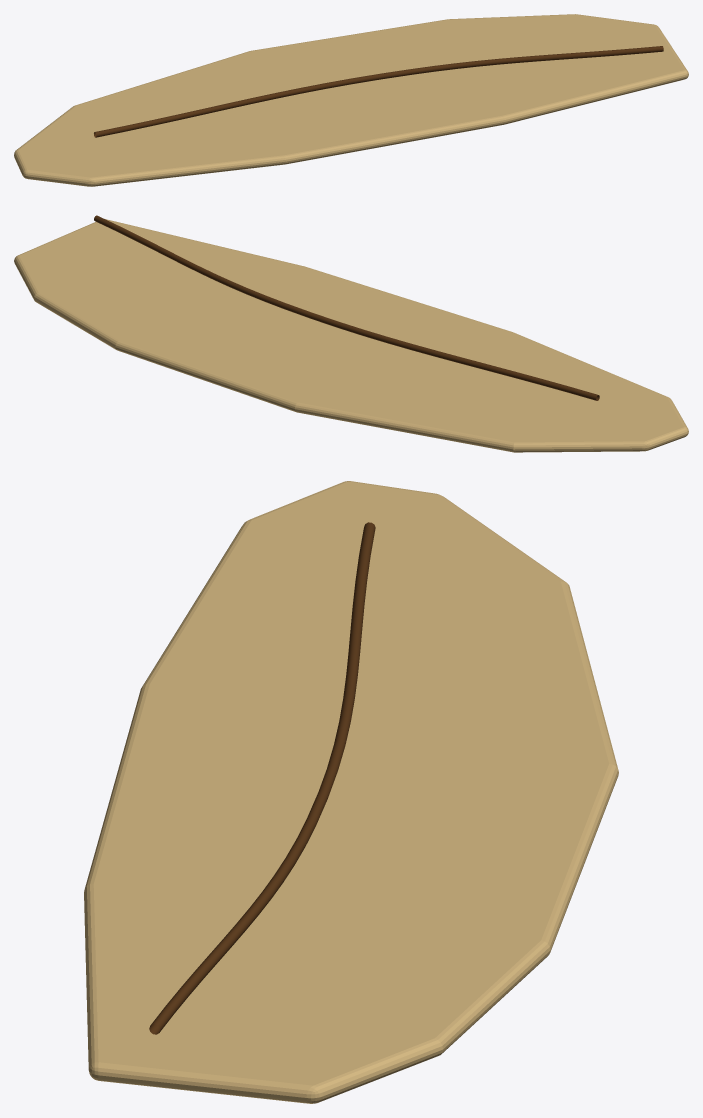
File: Wing_Left.glb
The picture shows the model from 3 angles, top to bottom: view 1: azimuth 30°, elevation 25°; view 2: azimuth 150°, elevation 25°; view 3: azimuth 270°, elevation 25°; orthographic projection. The views are drawn at different scales.
Parts seen in each view (by area): view 1: Wing_Left; view 2: Wing_Left; view 3: Wing_Left.
Part boxes in pixels (x1,y1,x2,y2): Wing_Left: [14, 14, 688, 186]; Wing_Left: [14, 215, 688, 452]; Wing_Left: [84, 481, 618, 1103].
Size of the model in its own units: 1.83 by 0.0676 by 0.6767.
2 materials, 2 textured.
